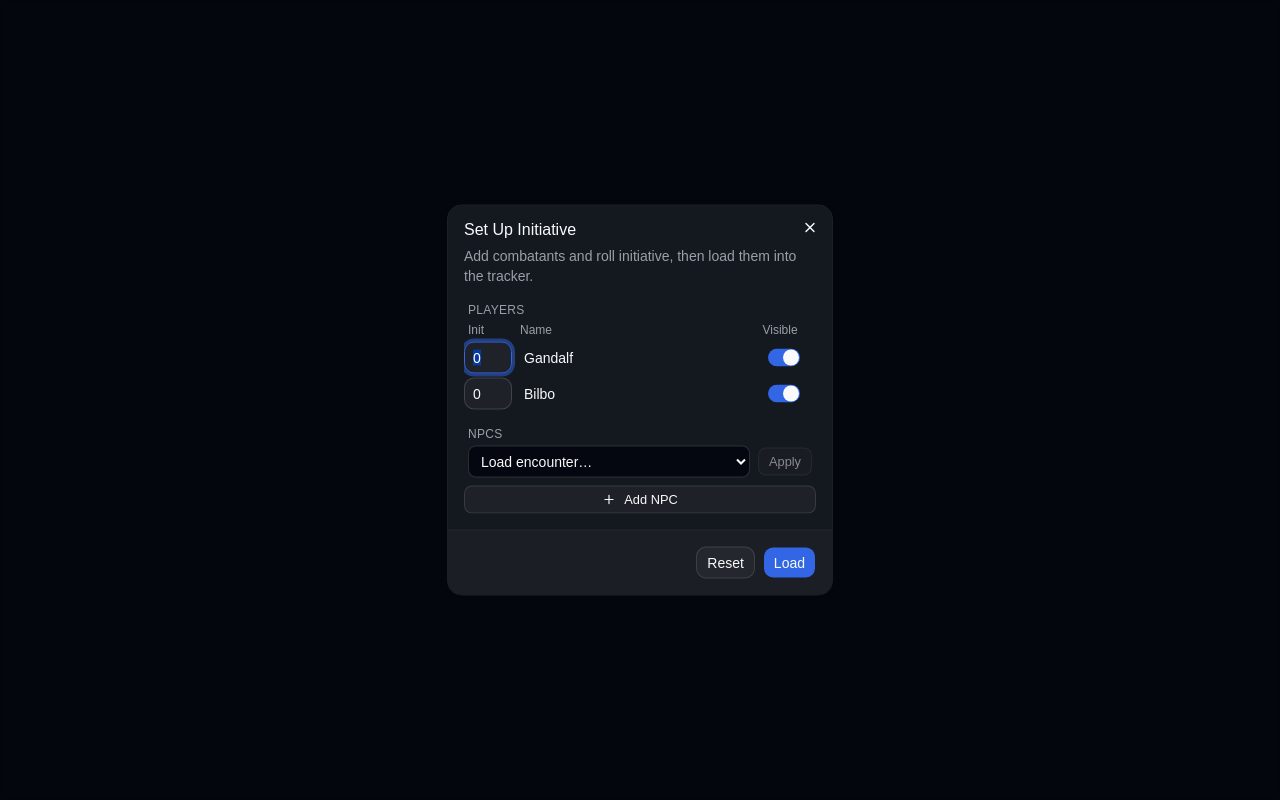
Test: InitiativeSetupDialog › loading an encounter populates NPCs from the template
Select the encounter template
Select "Goblin Ambush" in the dropdown at (609, 462), box [468, 446, 750, 478]
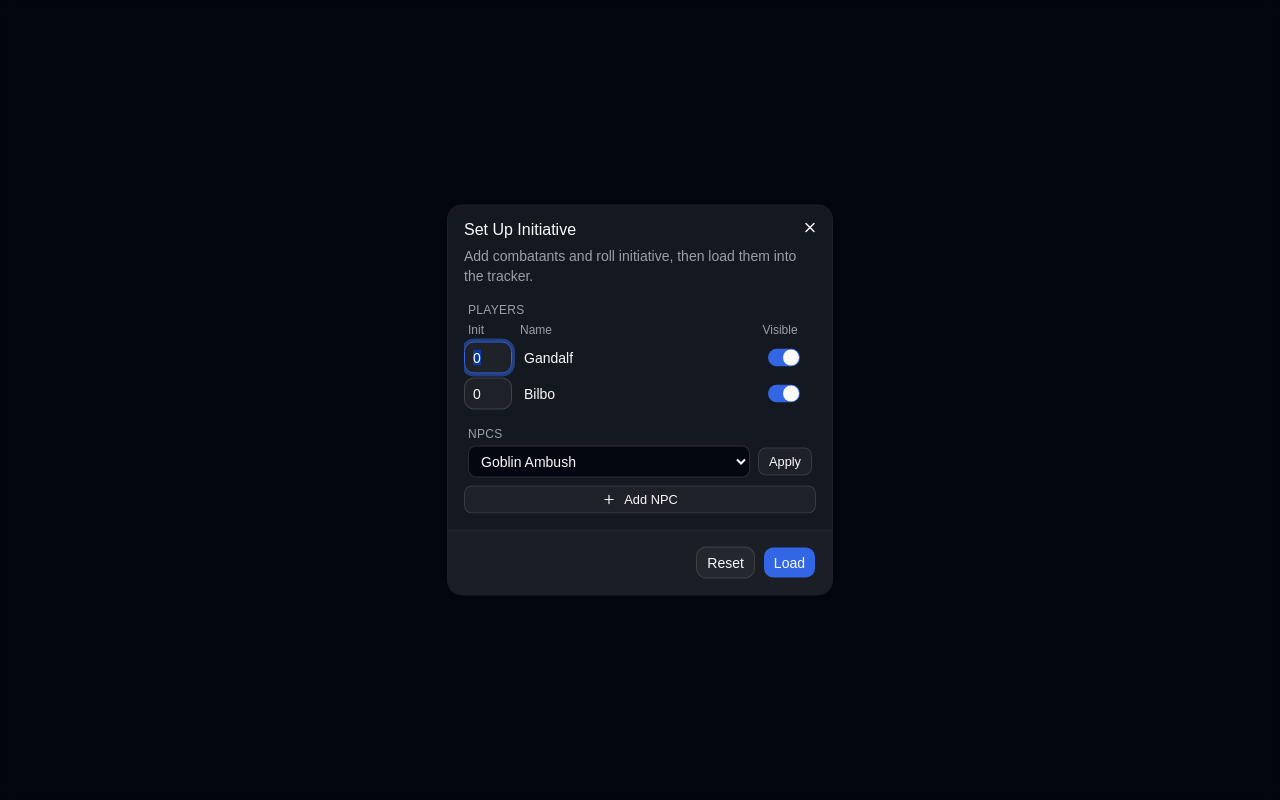
Click the button "Apply" at (785, 462), box [758, 448, 812, 476]
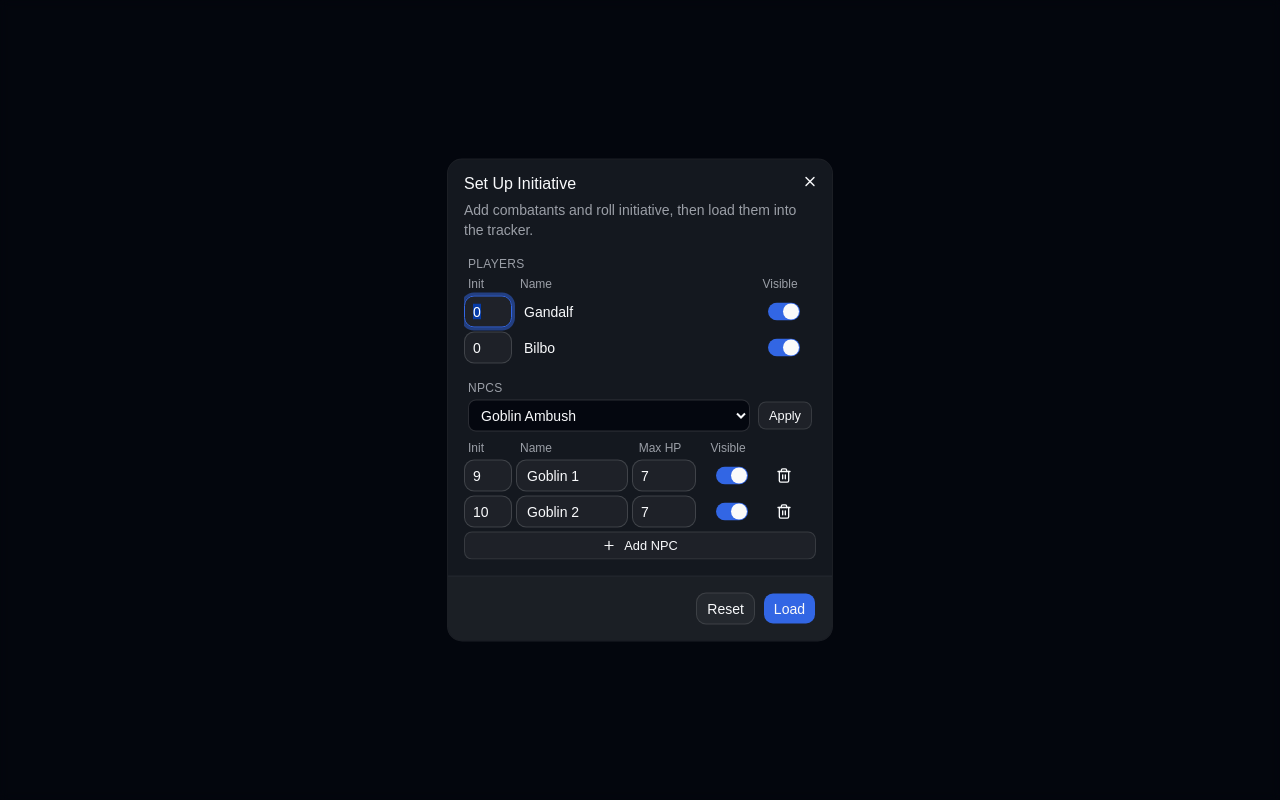
Result: the 1st field showing "Goblin 1" is shown at [516, 460, 628, 492]
Result: the 2nd field showing "Goblin 2" is shown at [516, 496, 628, 528]
